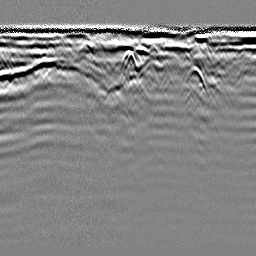cavity: (122, 46, 139, 70)
